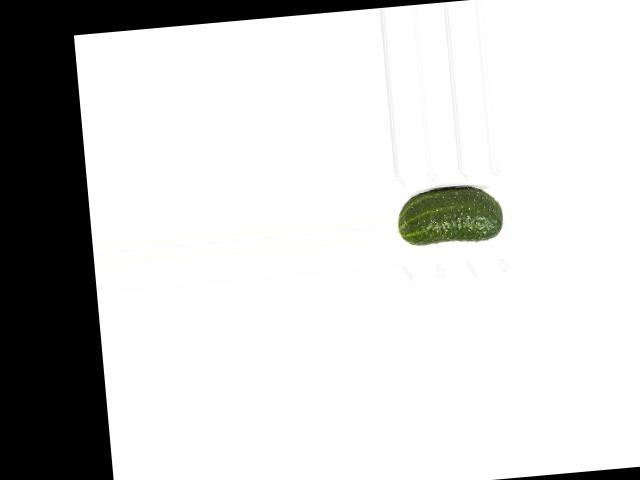cucumber: (395, 182, 505, 246)
